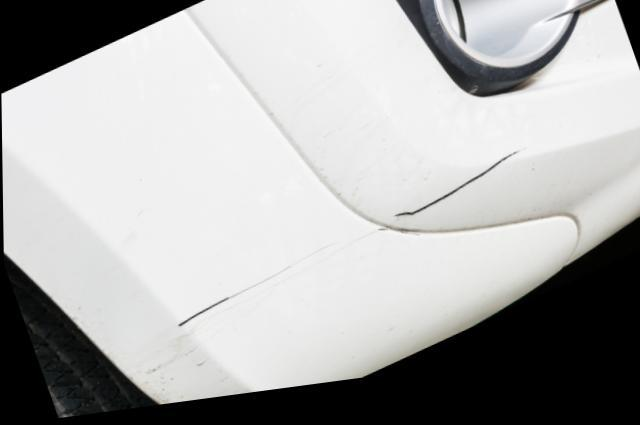scratch: (166, 242, 354, 343), (393, 157, 527, 239)
